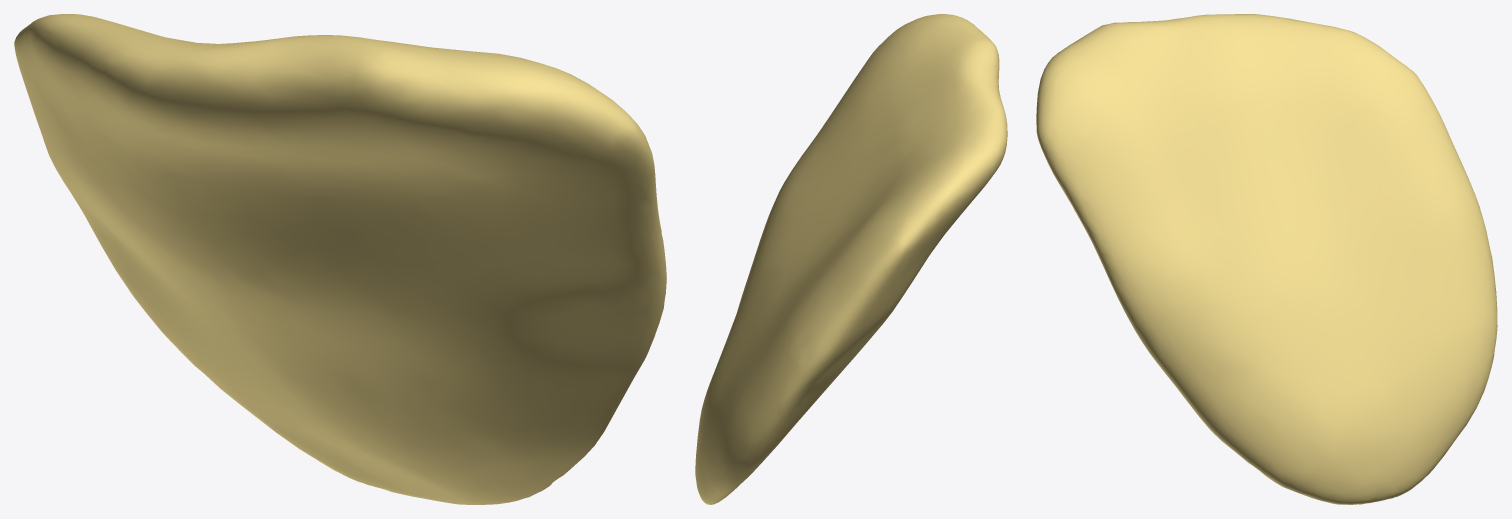
The model's file is fma73541_mm3570m.glb.
3 renders of one model, left to right at view 1: azimuth 30°, elevation 25°; view 2: azimuth 150°, elevation 25°; view 3: azimuth 270°, elevation 25°, orthographic. The views are drawn at different scales.
Visible parts, largest first — view 1: FMA73541_MM3570M; view 2: FMA73541_MM3570M; view 3: FMA73541_MM3570M.
Part boxes in pixels (<box>): FMA73541_MM3570M: <box>14,14,666,504</box>; FMA73541_MM3570M: <box>695,14,1007,504</box>; FMA73541_MM3570M: <box>1036,14,1497,504</box>.
Bounding box in the file's own units: 0.00723 × 0.00983 × 0.0102.
